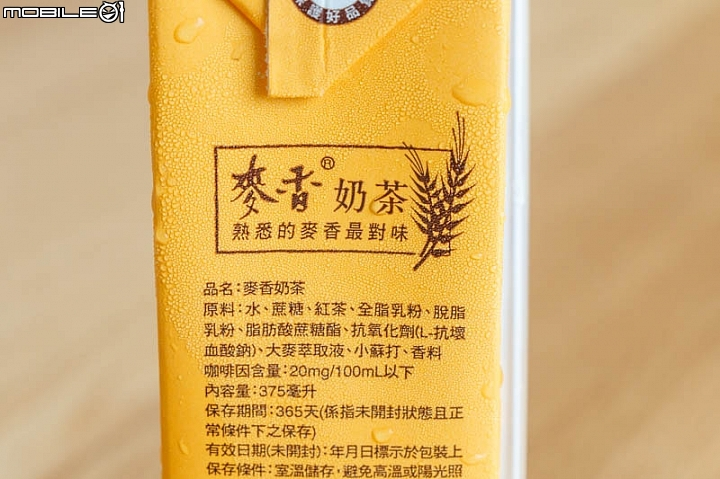milk tea: (145, 1, 529, 479)
